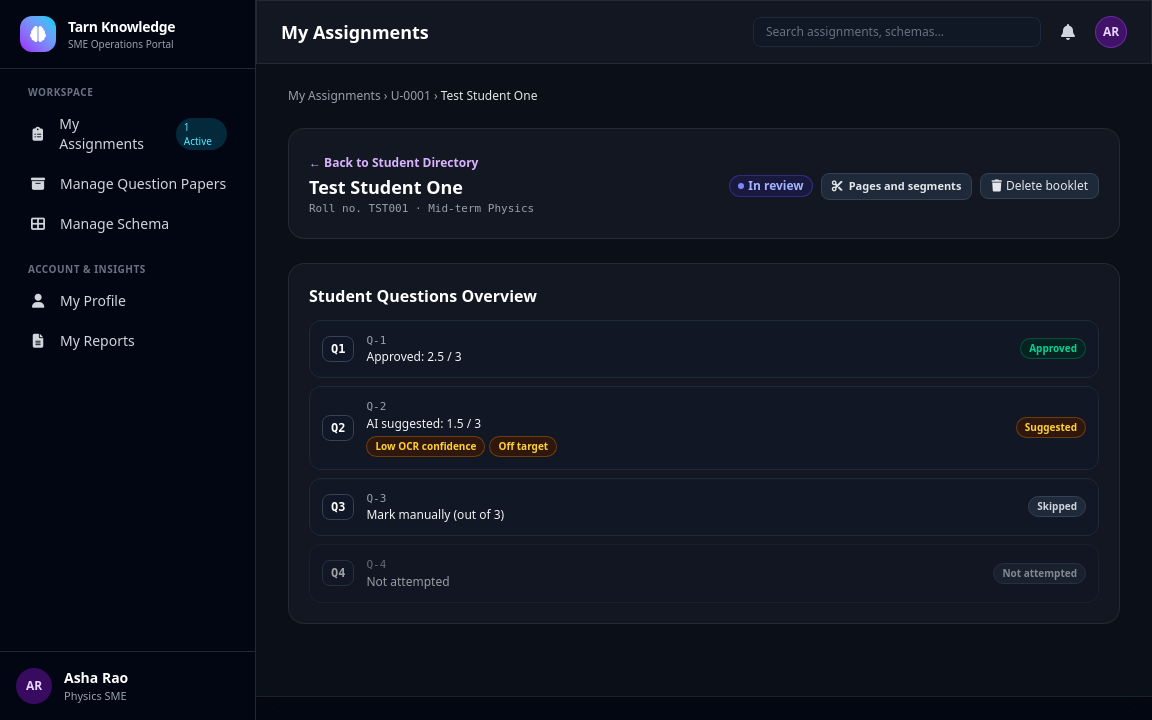
Scenario: Question list (P32, D217) › goes back to the student list with its filter in place
Click the link "← Back to Student Directory". click: x=394, y=162
box: [309,154,478,171]
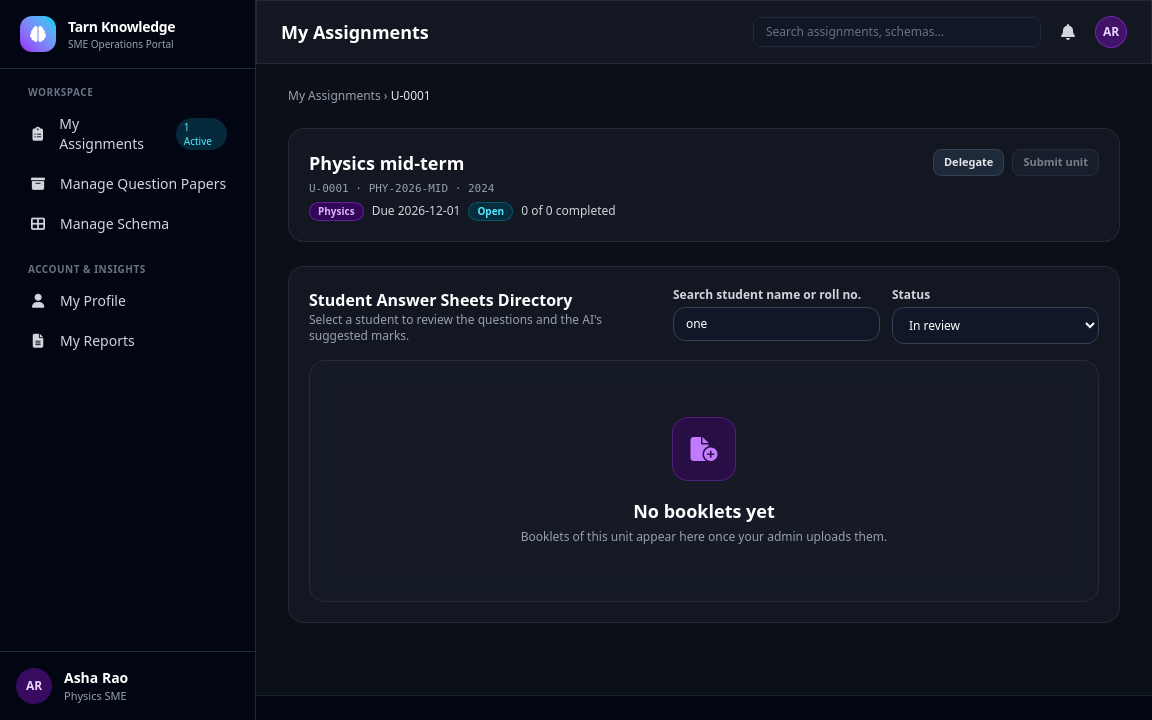
Now the search field labelled "Search student name or roll no." holds "one", box [673,307,880,341]
Now the dropdown labelled "Status" shows "In review", box [892,307,1099,344]
